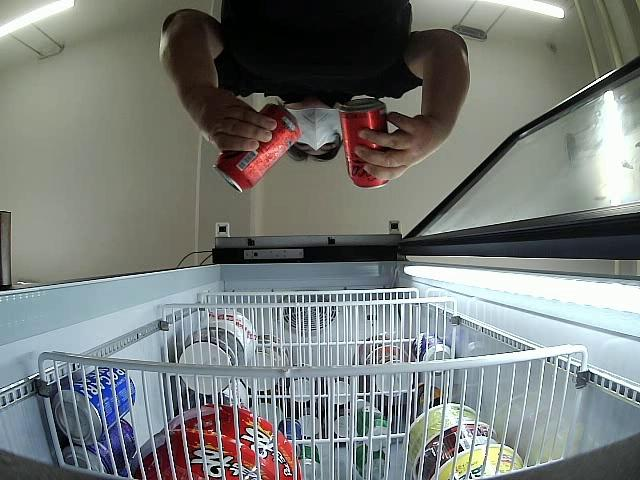00_hand: (356, 110, 437, 179), (195, 87, 280, 152)
11_cocaColaZero: (215, 105, 300, 192), (341, 96, 392, 187)
